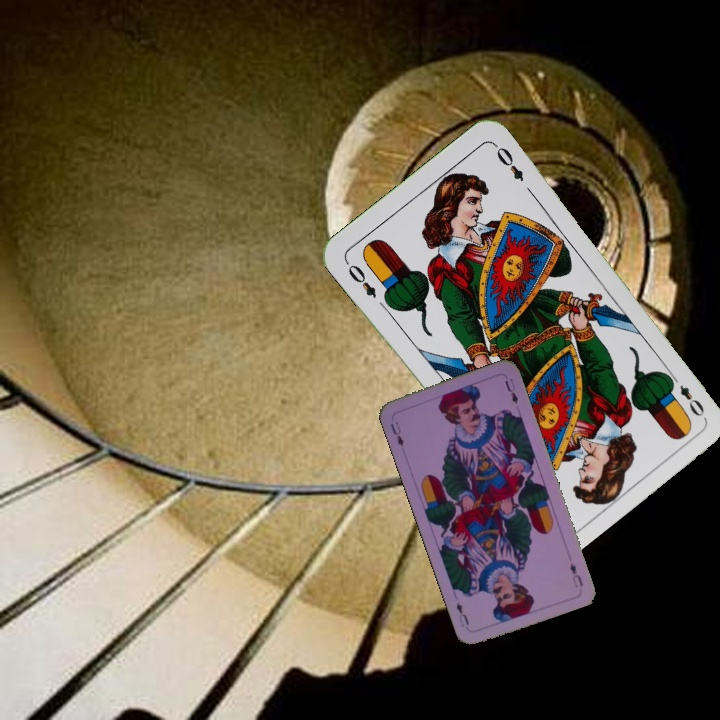EO: (665, 370, 708, 420), (341, 257, 379, 301)
EU: (566, 559, 586, 590), (386, 419, 406, 449)
